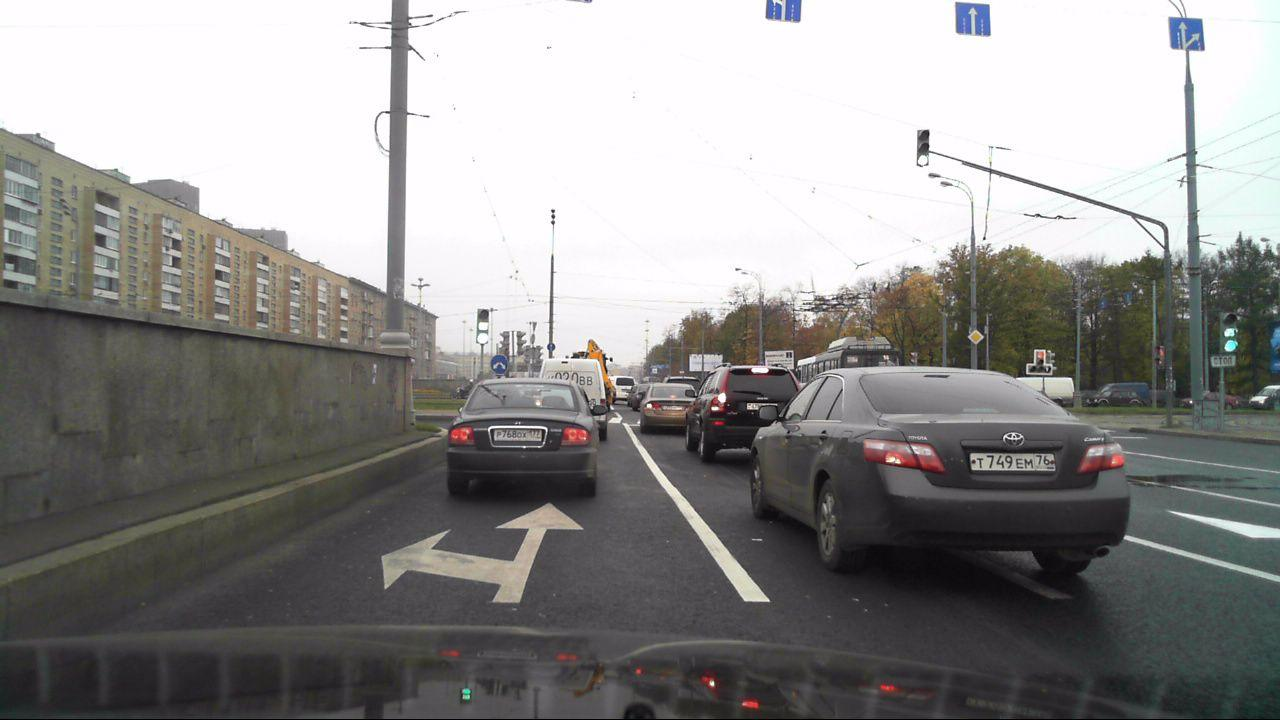obstructed_road_sign: (765, 0, 801, 23)
off traffic light: (517, 330, 528, 357), (500, 330, 510, 355)
road_sign: (954, 3, 992, 38), (1168, 17, 1206, 51), (1210, 355, 1238, 368), (491, 354, 508, 374), (967, 329, 985, 345)
traffic light: (1219, 312, 1238, 354), (1026, 349, 1053, 375), (476, 308, 489, 344), (917, 130, 929, 167)
